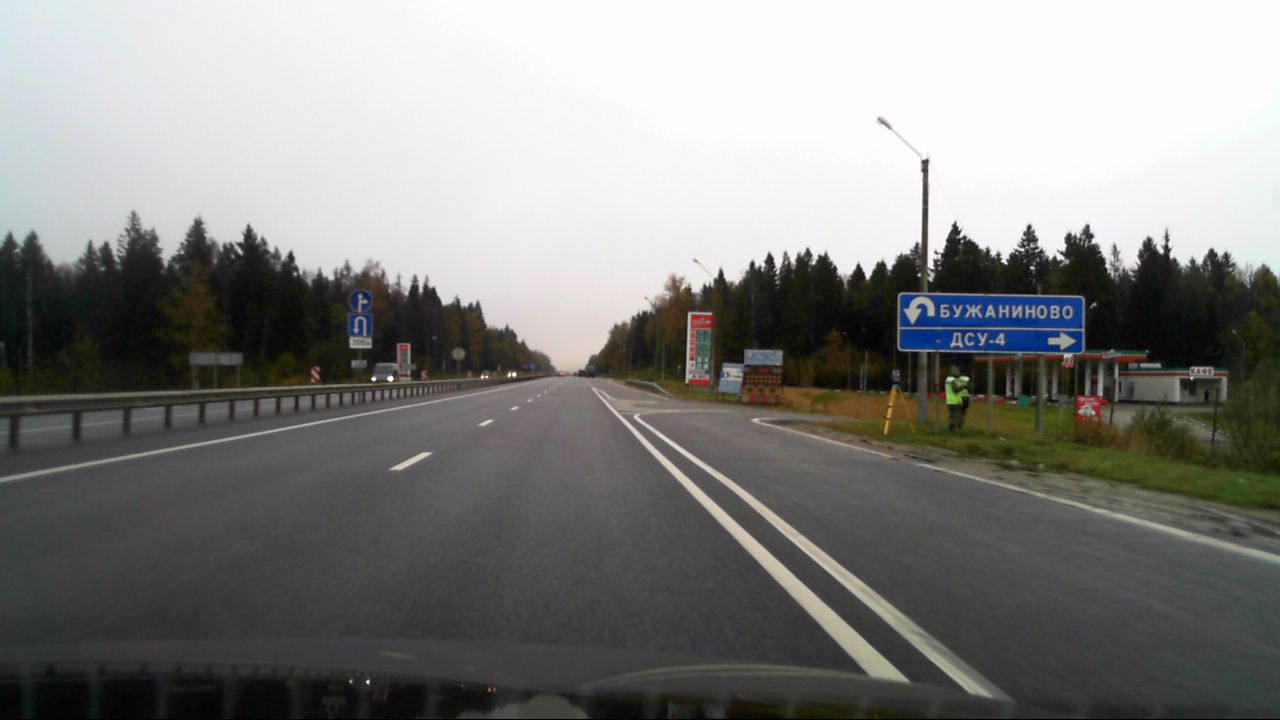U-turn: (349, 314, 372, 337)
